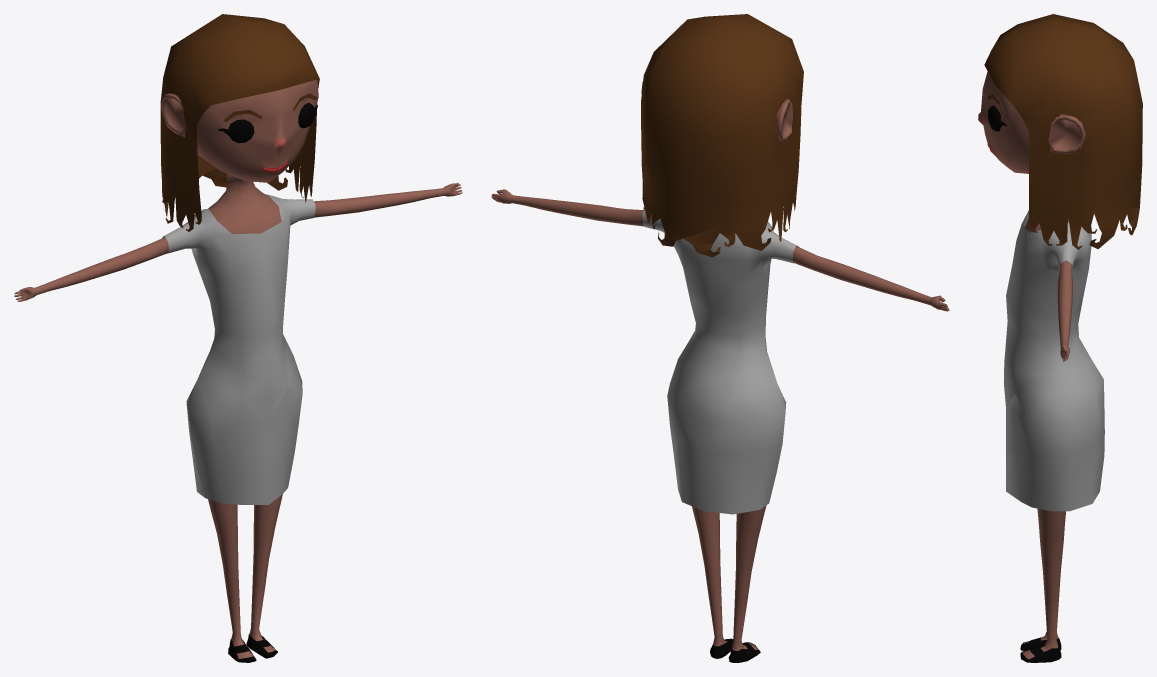
The model's file is Hope.obj.
The picture shows the model from 3 angles, left to right: view 1: azimuth 30°, elevation 25°; view 2: azimuth 150°, elevation 25°; view 3: azimuth 270°, elevation 25°; orthographic projection. The views are drawn at different scales.
Visible parts, largest first — view 1: Object006.001_Untitled.008, Object006_Untitled.007, Object009_Untitled.002, Object006.003_Untitled.010, Object006.002_Untitled.009; view 2: Object009_Untitled.002, Object006.001_Untitled.008, Object006_Untitled.007, Object006.002_Untitled.009; view 3: Object009_Untitled.002, Object006.001_Untitled.008, Object006_Untitled.007, Object006.002_Untitled.009, Object006.003_Untitled.010.
Boxes of the visible parts, x1,y1,x2,y2 form: Object006.001_Untitled.008: (162, 194, 315, 504); Object006_Untitled.007: (14, 79, 462, 658); Object009_Untitled.002: (160, 14, 319, 231); Object006.003_Untitled.010: (218, 102, 317, 143); Object006.002_Untitled.009: (228, 634, 277, 662); Object009_Untitled.002: (641, 14, 803, 257); Object006.001_Untitled.008: (642, 210, 798, 514); Object006_Untitled.007: (491, 82, 949, 650); Object006.002_Untitled.009: (710, 638, 760, 662); Object009_Untitled.002: (984, 14, 1142, 249); Object006.001_Untitled.008: (1004, 210, 1104, 511); Object006_Untitled.007: (978, 71, 1085, 659); Object006.002_Untitled.009: (1020, 637, 1061, 662); Object006.003_Untitled.010: (988, 105, 1007, 131).
Size of the model in its own units: 3.3 by 4.41 by 1.04.
